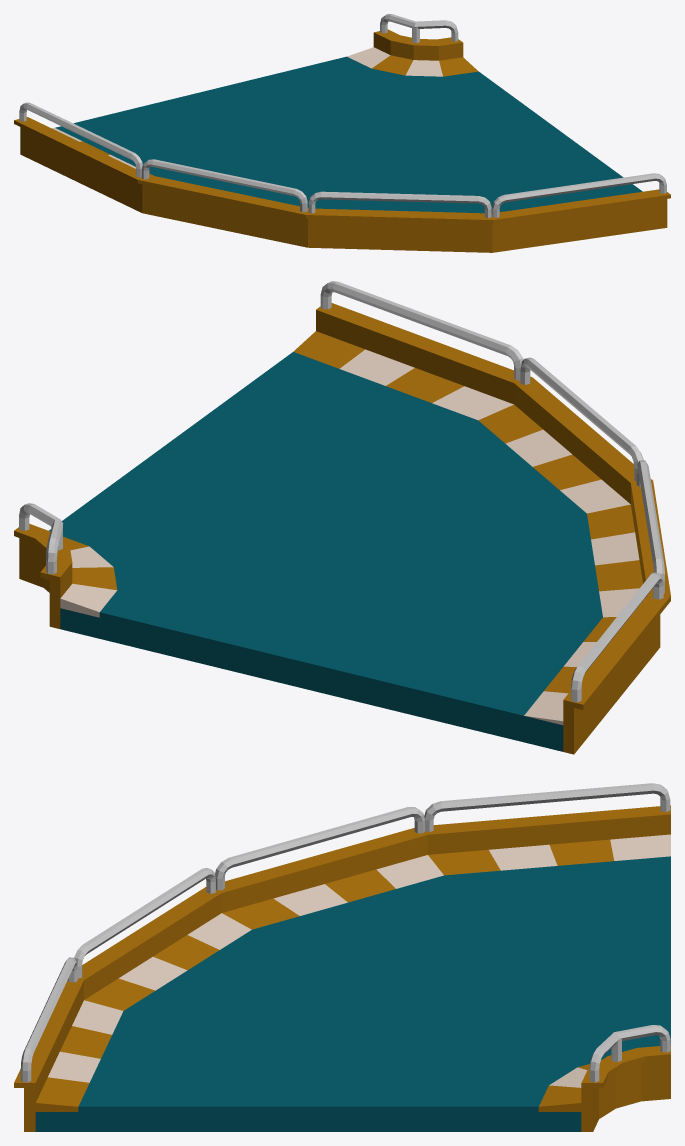
The model's file is curveLeft-90_s.FBX.
3 renders of one model, top to bottom at view 1: azimuth 30°, elevation 25°; view 2: azimuth 150°, elevation 25°; view 3: azimuth 270°, elevation 25°, orthographic. The views are drawn at different scales.
Visible parts, largest first — view 1: curveLeft-90_s, wall_r, wall_l, curbs_l; view 2: curveLeft-90_s, wall_r, curbs_r, wall_l, curbs_l; view 3: curveLeft-90_s, wall_r, curbs_r, wall_l, curbs_l.
Part boxes in pixels (x1=…): curveLeft-90_s: x1=55, y1=56, x2=642, y2=213; wall_r: x1=14, y1=102, x2=670, y2=252; wall_l: x1=373, y1=14, x2=463, y2=60; curbs_l: x1=347, y1=47, x2=478, y2=76; curveLeft-90_s: x1=49, y1=352, x2=602, y2=751; wall_r: x1=316, y1=281, x2=670, y2=754; curbs_r: x1=293, y1=331, x2=642, y2=725; wall_l: x1=14, y1=503, x2=72, y2=628; curbs_l: x1=60, y1=536, x2=117, y2=617; curveLeft-90_s: x1=35, y1=856, x2=670, y2=1131; wall_r: x1=14, y1=783, x2=670, y2=1131; curbs_r: x1=35, y1=834, x2=670, y2=1111; wall_l: x1=581, y1=1025, x2=670, y2=1131; curbs_l: x1=538, y1=1064, x2=589, y2=1111.
Size of what is drawn, in the model's own units: 231 by 29.31 by 231.
